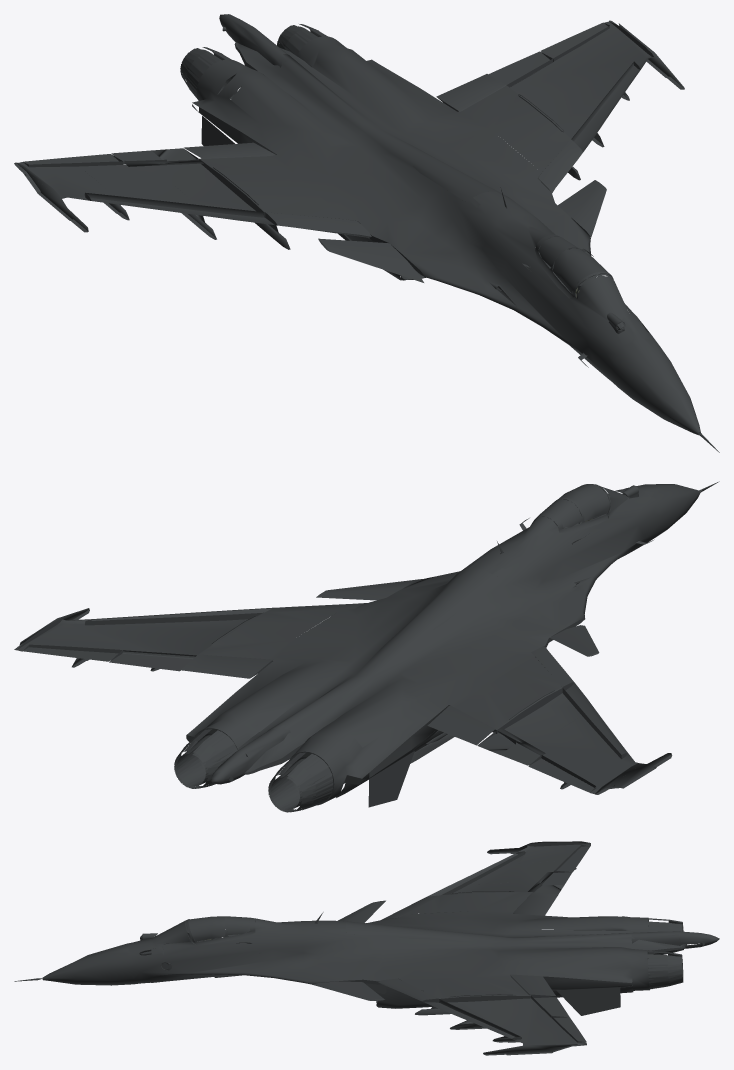
Rendered from airplane.glb.
The picture shows the model from 3 angles, top to bottom: view 1: azimuth 30°, elevation 25°; view 2: azimuth 150°, elevation 25°; view 3: azimuth 270°, elevation 25°; orthographic projection. The views are drawn at different scales.
Visible parts, largest first — view 1: J15_00, J15_10, J15_06, J15_14, J15_19, J15_03, J15_20, J15_07; view 2: J15_00, J15_10, J15_06, J15_14, J15_03, J15_20, J15_07, J15_11, J15_19; view 3: J15_00, J15_06, J15_10, J15_14, J15_03, J15_20, J15_19, J15_11.
Part boxes in pixels (x1,y1,x2,y2): J15_00: (180, 14, 719, 452); J15_10: (14, 148, 277, 239); J15_06: (488, 20, 684, 152); J15_14: (535, 234, 613, 298); J15_19: (318, 238, 423, 282); J15_03: (412, 158, 510, 207); J15_20: (558, 180, 606, 237); J15_07: (541, 22, 609, 61); J15_00: (174, 481, 719, 812); J15_10: (477, 682, 672, 794); J15_06: (14, 607, 273, 671); J15_14: (534, 484, 610, 532); J15_03: (409, 561, 506, 629); J15_20: (316, 579, 422, 600); J15_07: (23, 644, 121, 661); J15_11: (528, 755, 595, 792); J15_19: (550, 625, 599, 656); J15_00: (14, 891, 719, 1015); J15_06: (422, 994, 586, 1055); J15_10: (427, 841, 590, 896); J15_14: (186, 916, 255, 945); J15_03: (333, 921, 429, 938); J15_20: (312, 981, 384, 1000); J15_19: (338, 900, 385, 922); J15_11: (555, 845, 590, 871).
Bounding box in the file's own units: 14.54 × 2.77 × 21.34.
2 materials, 1 textured.
